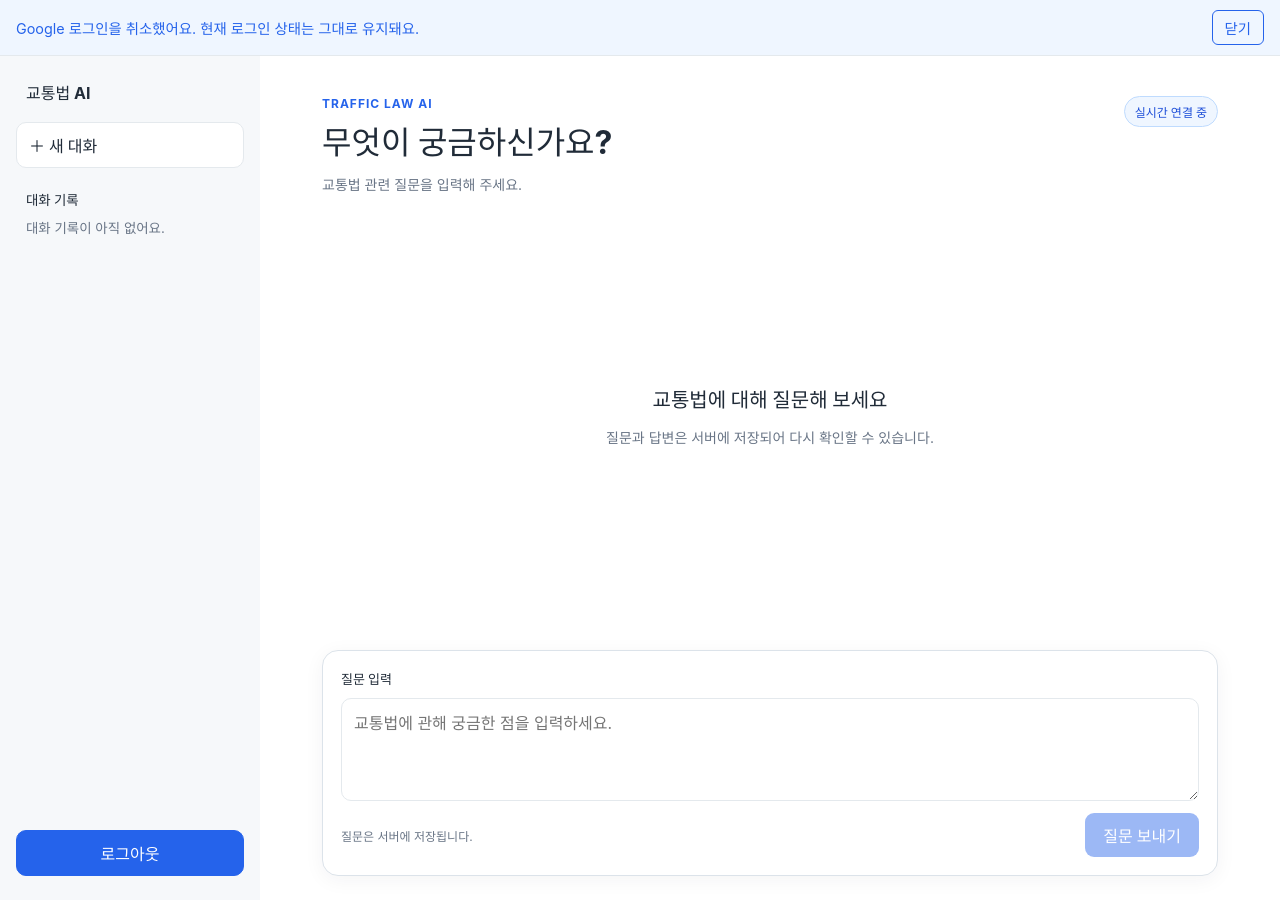
Test: 기존 회원 세션이 복구되면 회원 화면을 유지하고 배너로만 안내한다
The width and height of the screenshot is (1280, 900).
expect the text "Google 로그인을 취소했어요. 현재 로그인 상태는 그대로 유지돼요." is shown: met, box [0,0,1279,56]
expect the button "로그아웃" is shown: met, box [16,830,244,876]
Click the button "닫기".
click(1238, 28)  # box [1212,10,1264,45]
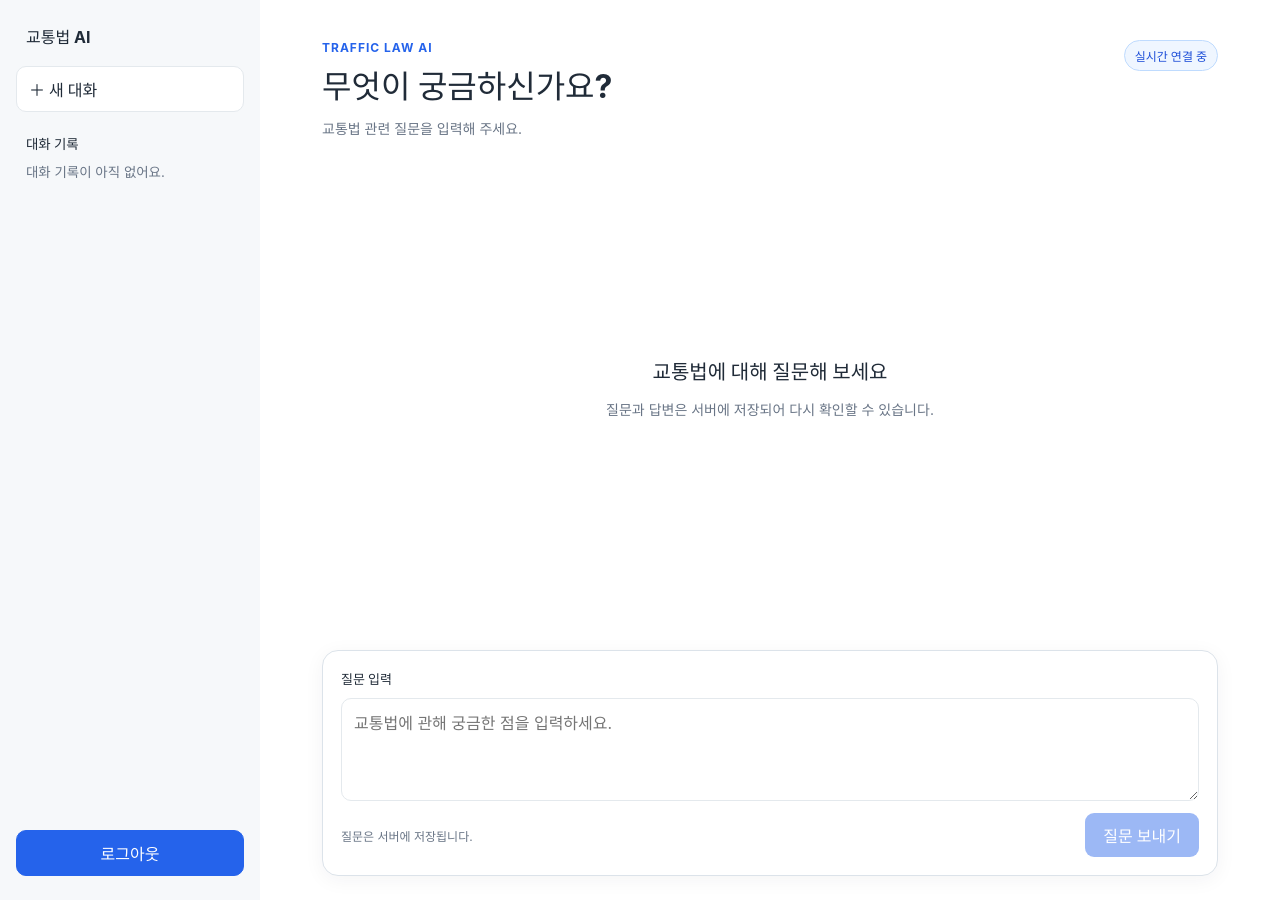
expect the button "로그아웃" is shown: met, box [16,830,244,876]
expect the text "현재 로그인 상태는 그대로 유지돼요" is gone: met
